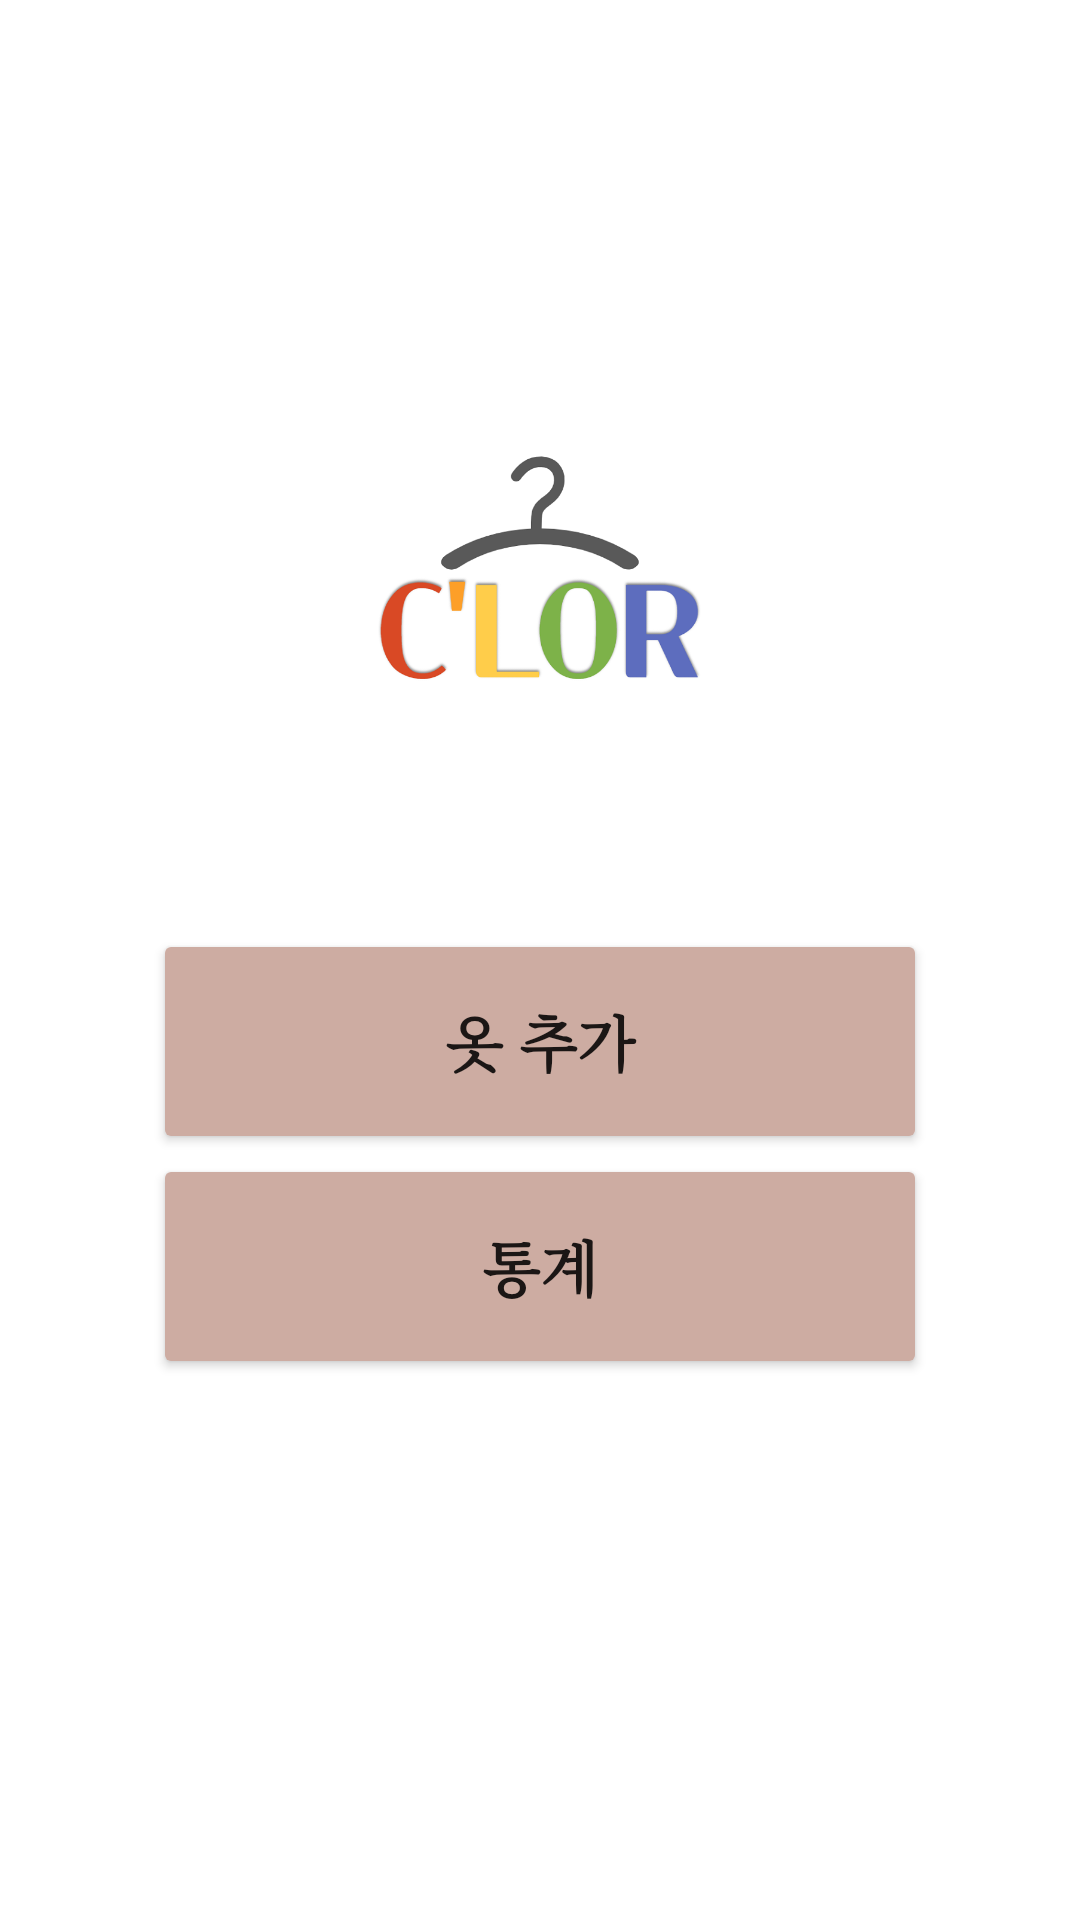

Screen size 1080px×1920px. Icon name, then its center in pixels as [x,y]:
appicon: [539,567]
